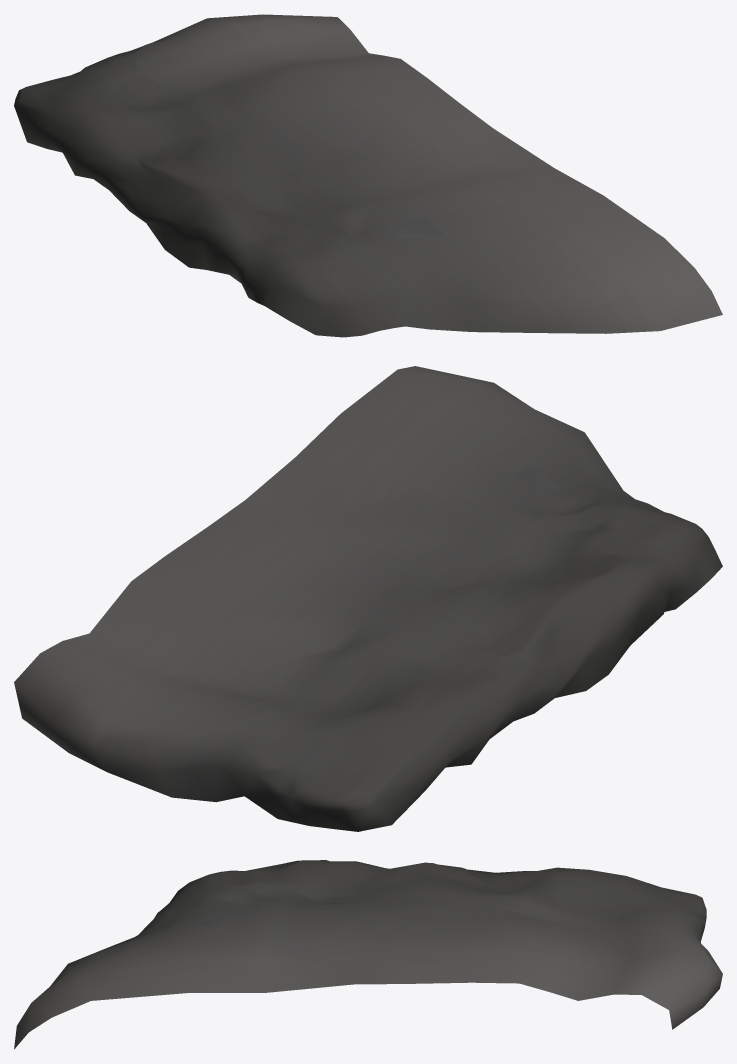
Rendered from caveTop01.fbx.
3 renders of one model, top to bottom at view 1: azimuth 30°, elevation 25°; view 2: azimuth 150°, elevation 25°; view 3: azimuth 270°, elevation 25°, orthographic. The views are drawn at different scales.
Visible parts, largest first — view 1: pCube2; view 2: pCube2; view 3: pCube2.
Boxes of the visible parts, box(x1,y1,x2,y2) form: pCube2: box(14, 14, 722, 337); pCube2: box(14, 366, 722, 831); pCube2: box(14, 860, 722, 1049).
Bounding box in the file's own units: 169 × 37.23 × 336.
